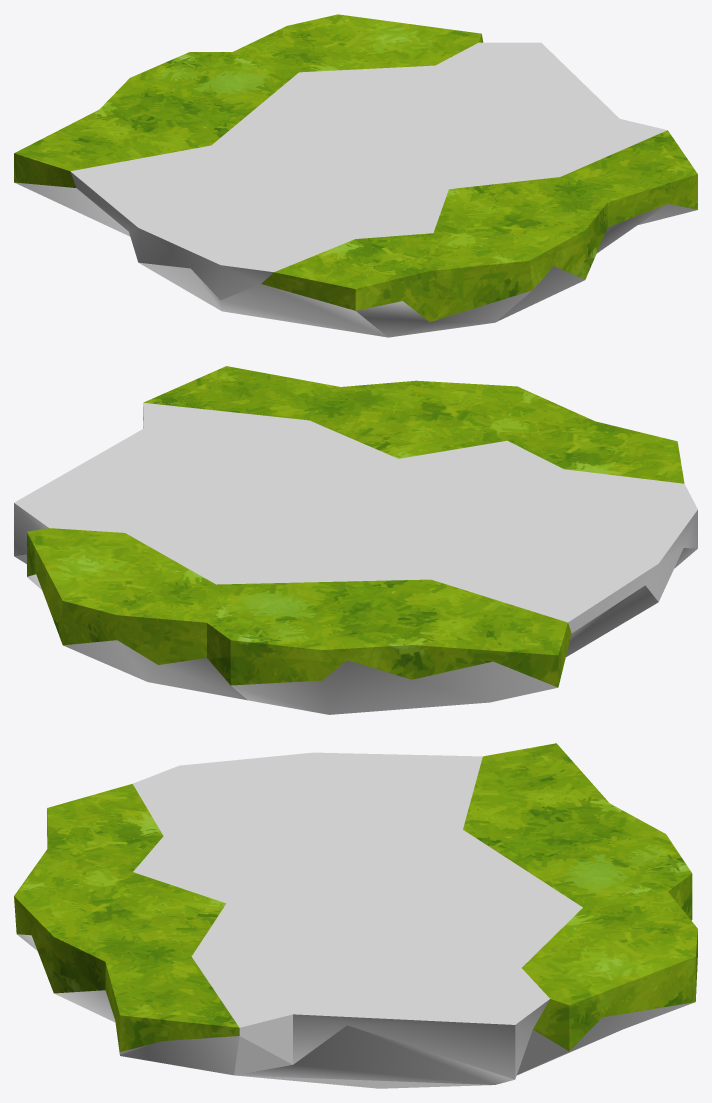
File: platform3.fbx
The picture shows the model from 3 angles, top to bottom: view 1: azimuth 30°, elevation 25°; view 2: azimuth 150°, elevation 25°; view 3: azimuth 270°, elevation 25°; orthographic projection. The views are drawn at different scales.
Parts seen in each view (by area): view 1: pPlane3; view 2: pPlane3; view 3: pPlane3.
Boxes of the visible parts, box(x1,y1,x2,y2) form: pPlane3: box(14, 14, 697, 337); pPlane3: box(14, 366, 697, 714); pPlane3: box(14, 743, 697, 1088).
Size of the model in its own units: 50.43 by 15.87 by 51.21.
